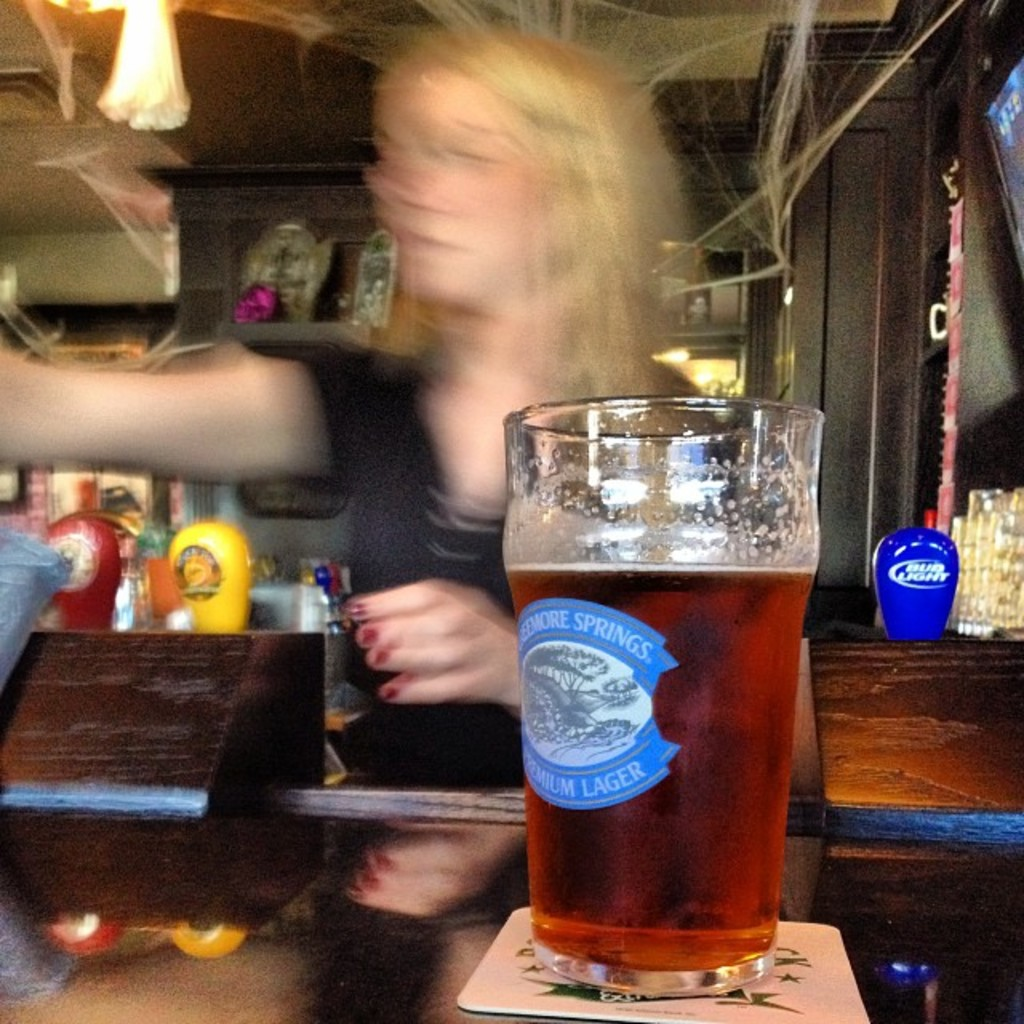Beer: (502, 561, 812, 987)
